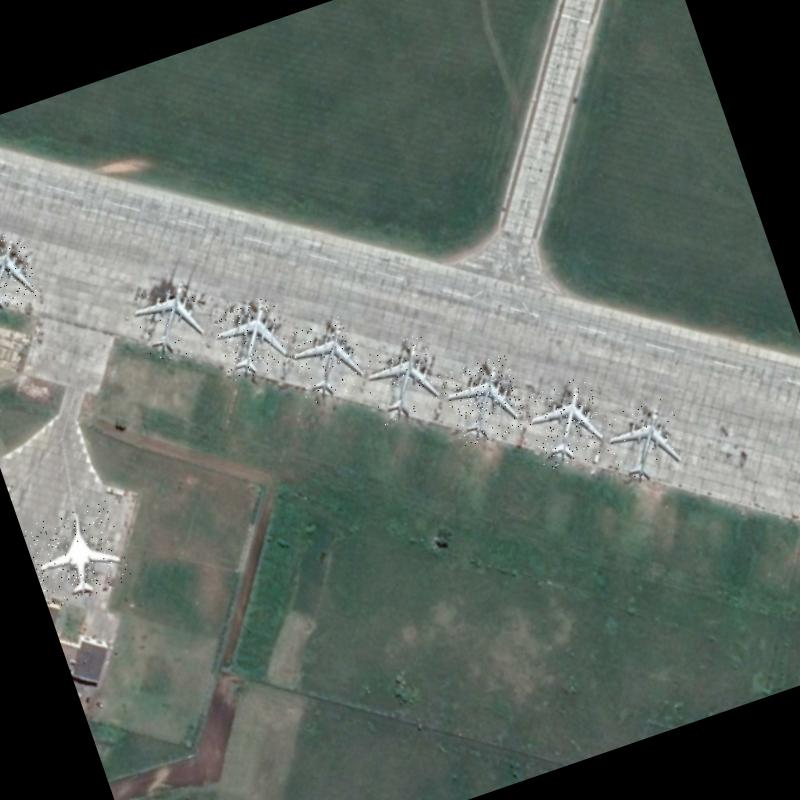A17: (598, 393, 693, 491), (520, 374, 613, 473), (438, 352, 531, 450), (356, 330, 446, 428), (126, 276, 216, 368), (284, 314, 372, 408), (206, 293, 294, 384), (0, 230, 42, 320)
A6: (22, 500, 133, 610)
